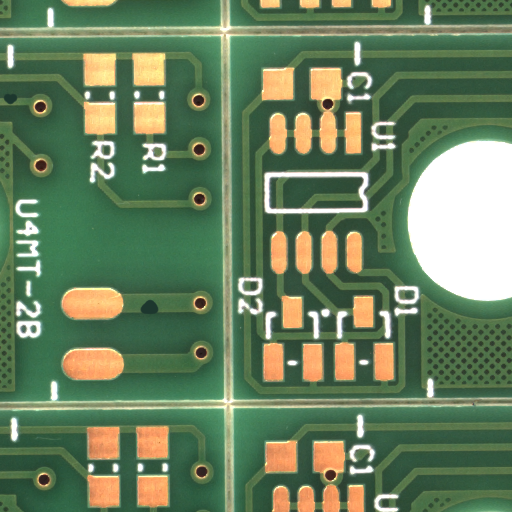Mouse_bite: (150, 307, 172, 321), (10, 98, 24, 109)
